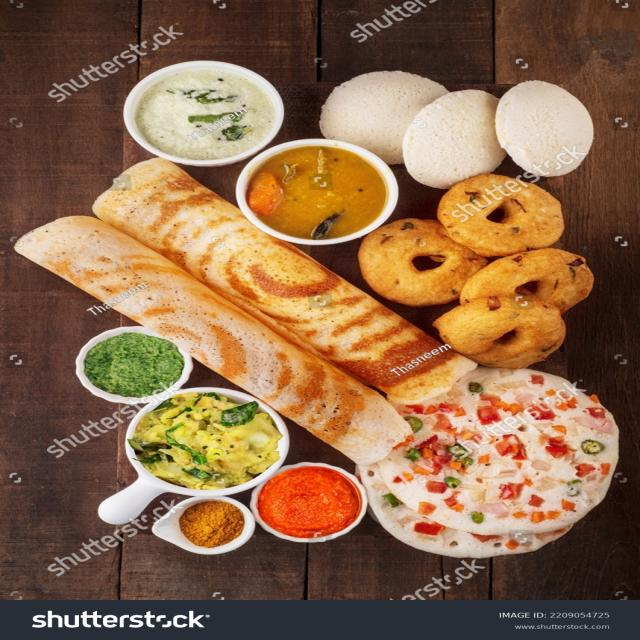DOSA: (4, 160, 478, 465)
IDLI: (326, 71, 607, 197)
MEDU VADA: (355, 175, 607, 369)
